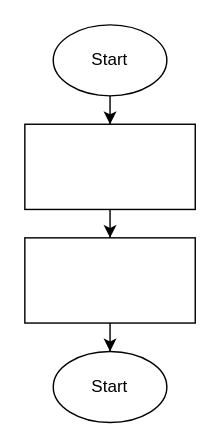
This 220x447 diagram has some shape labels left out. Here are the shapes that lost their labels. From the top down, the centre of each, then its label:
the point at 109,166: bit shift x by 4
the point at 109,279: or with y
